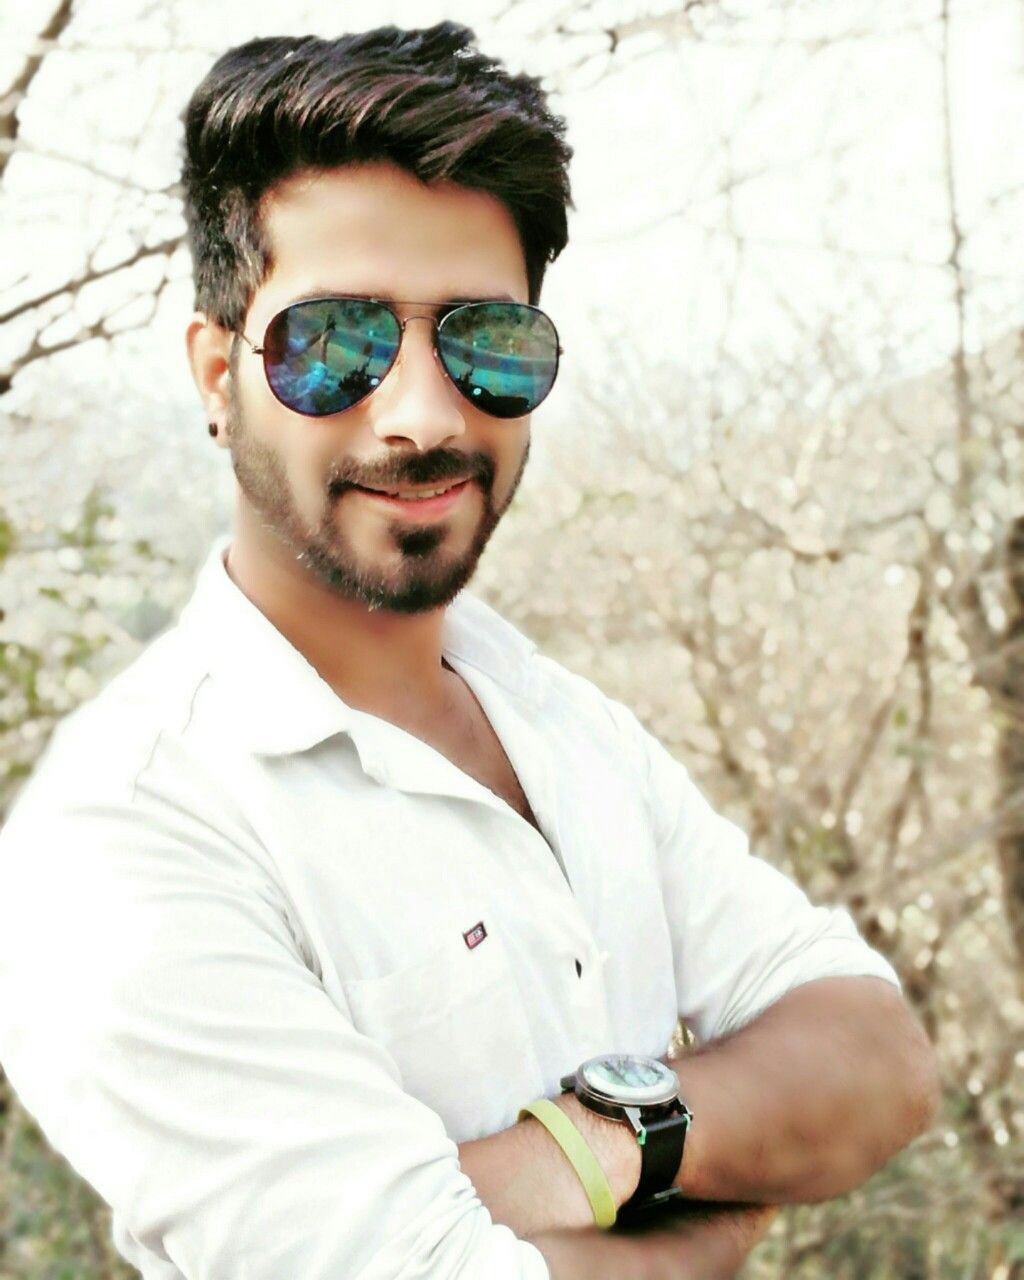noMask: (136, 15, 646, 614)
